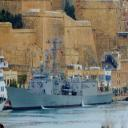Fragata: (5, 24, 116, 114)
